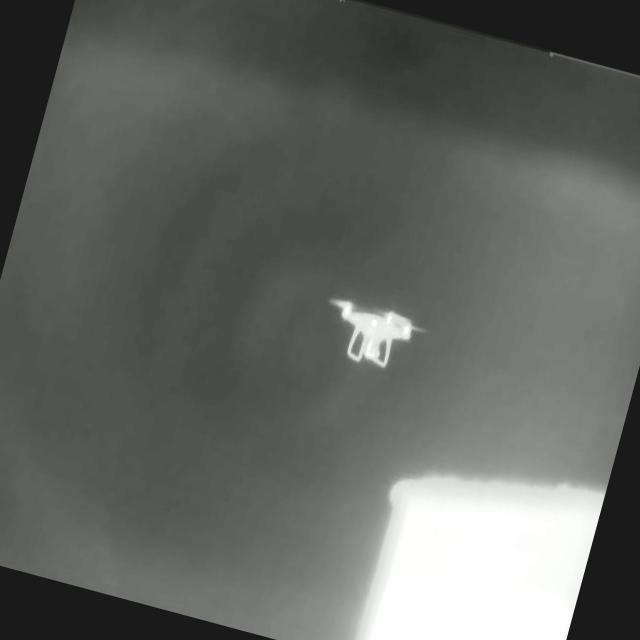DRONE: (322, 296, 429, 370)
